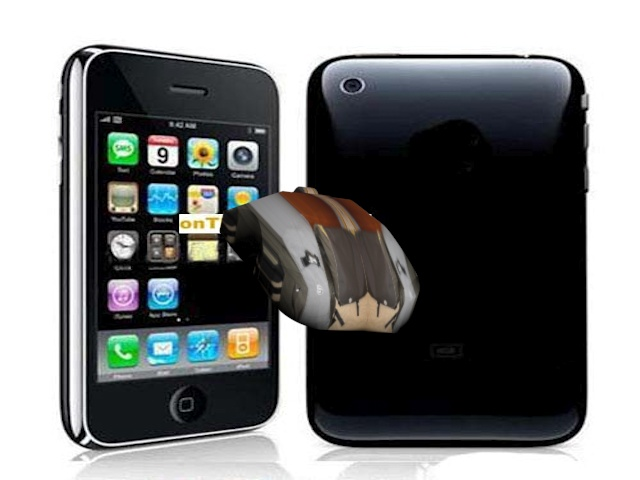mouse: (209, 176, 432, 337)
